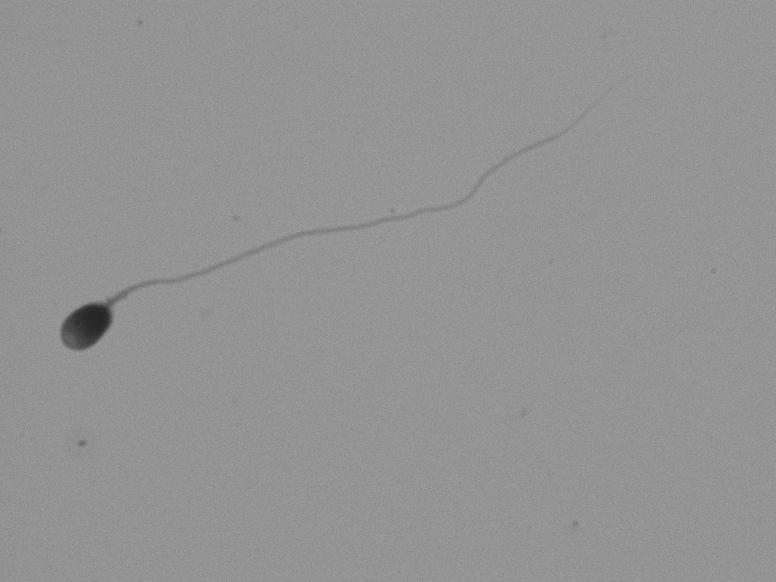Normal: (14, 71, 610, 370)
